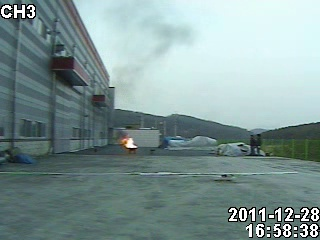fire: (122, 138, 143, 150)
